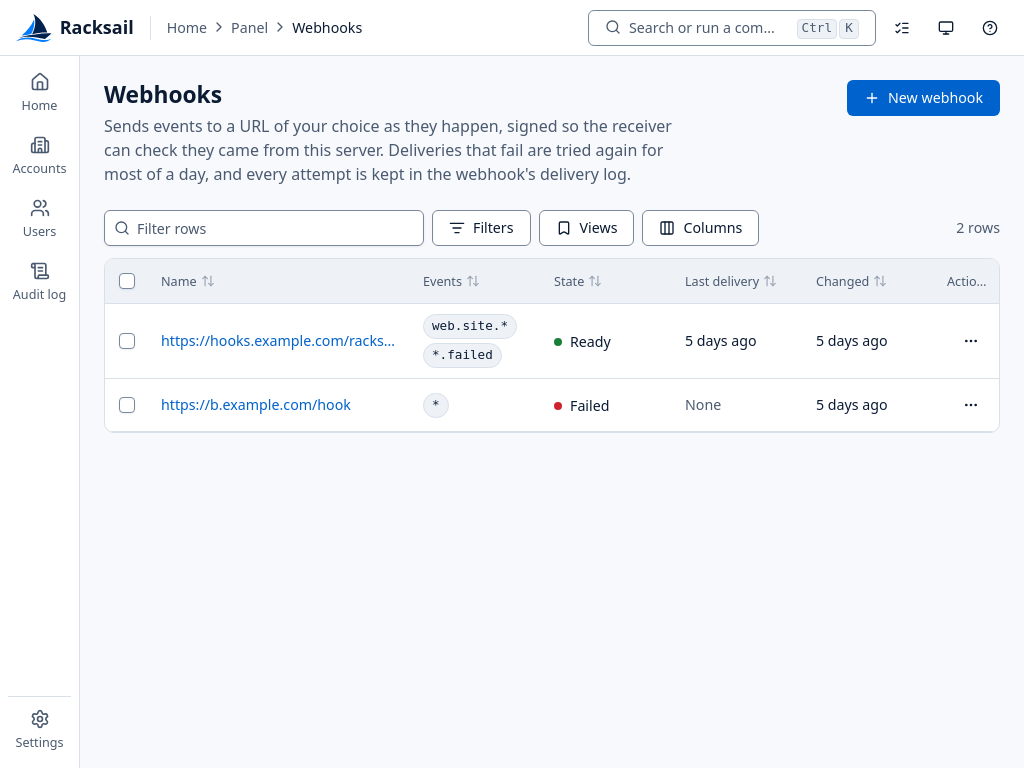
a kind's list › deletes a row from its menu, and closes the dialog once that's applied
Click the button named "Actions for https://hooks.example.com/racksail": (971, 341) x1=955 y1=325 x2=987 y2=357
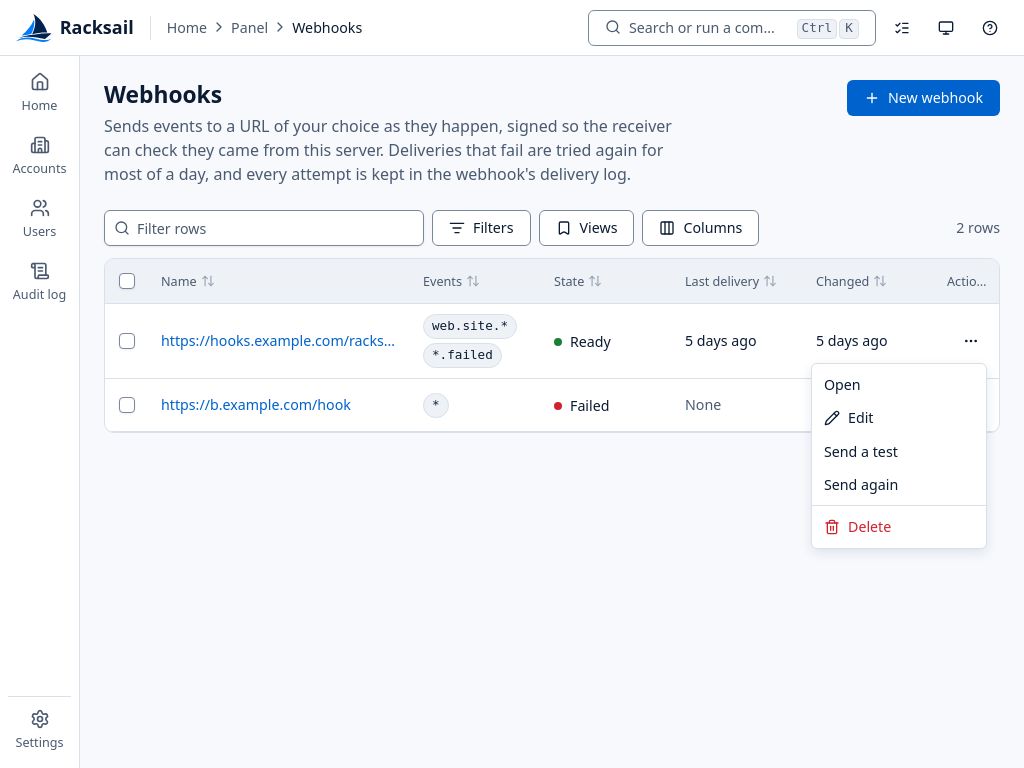
Click the menu item "Delete": (858, 527) x1=824 y1=517 x2=891 y2=536
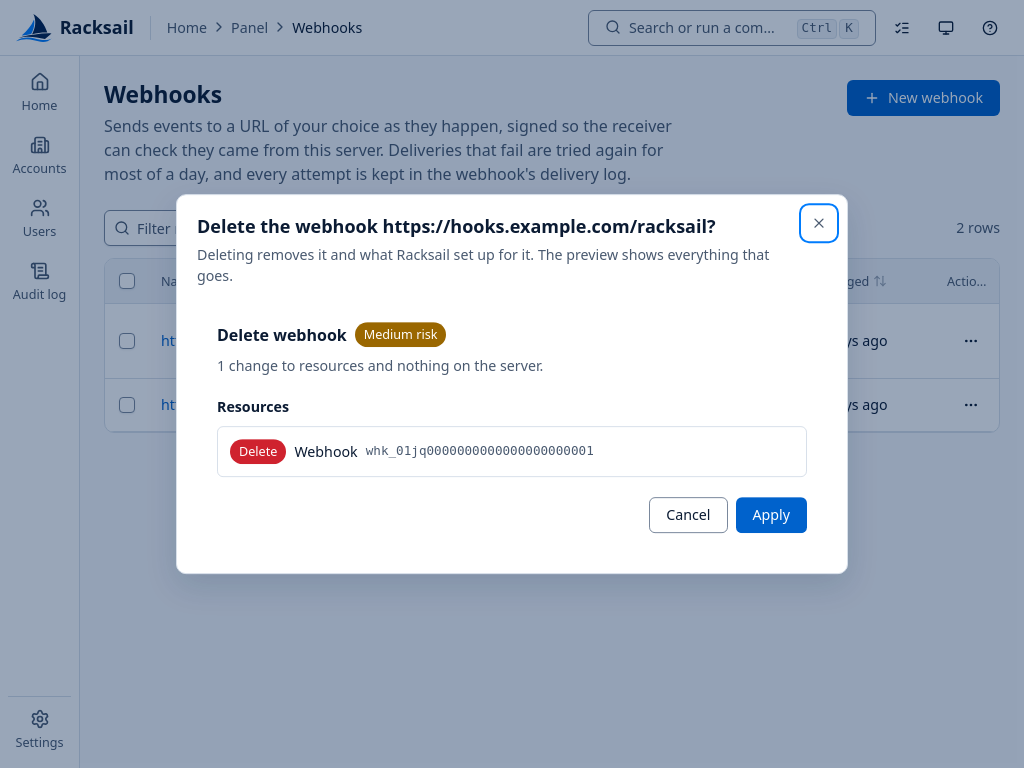
Click the button "Apply": (771, 515) x1=736 y1=497 x2=807 y2=533
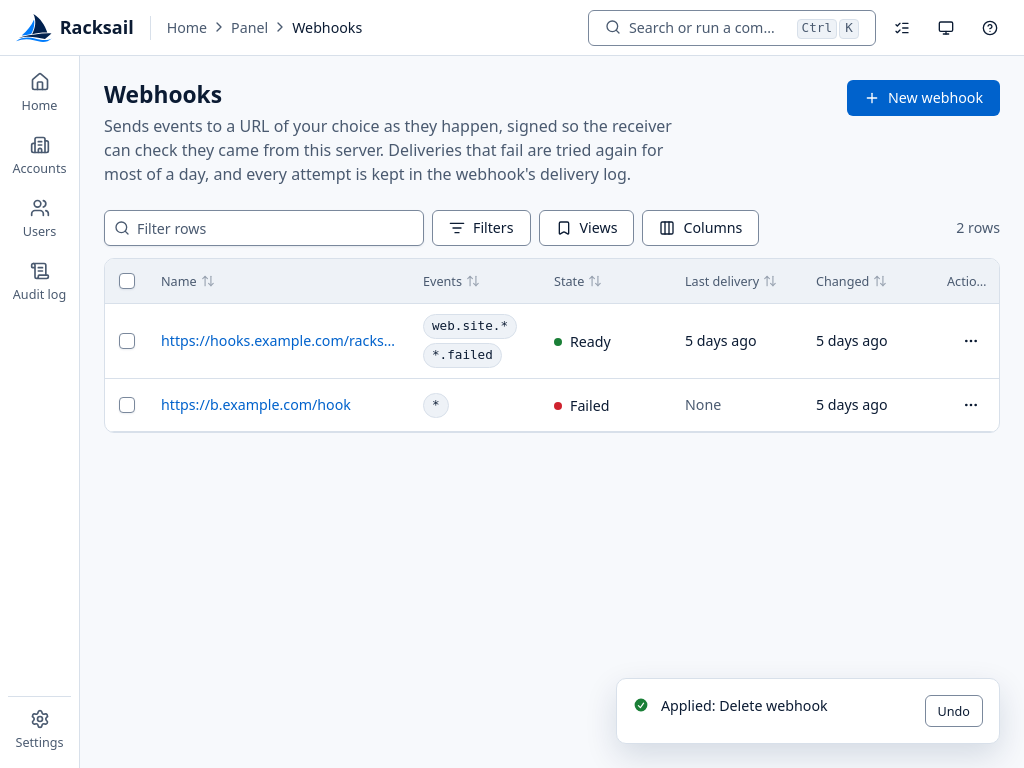
Check: the dialog is gone
Check: the text "Applied: Delete webhook" is shown, box x1=661 y1=696 x2=828 y2=715
